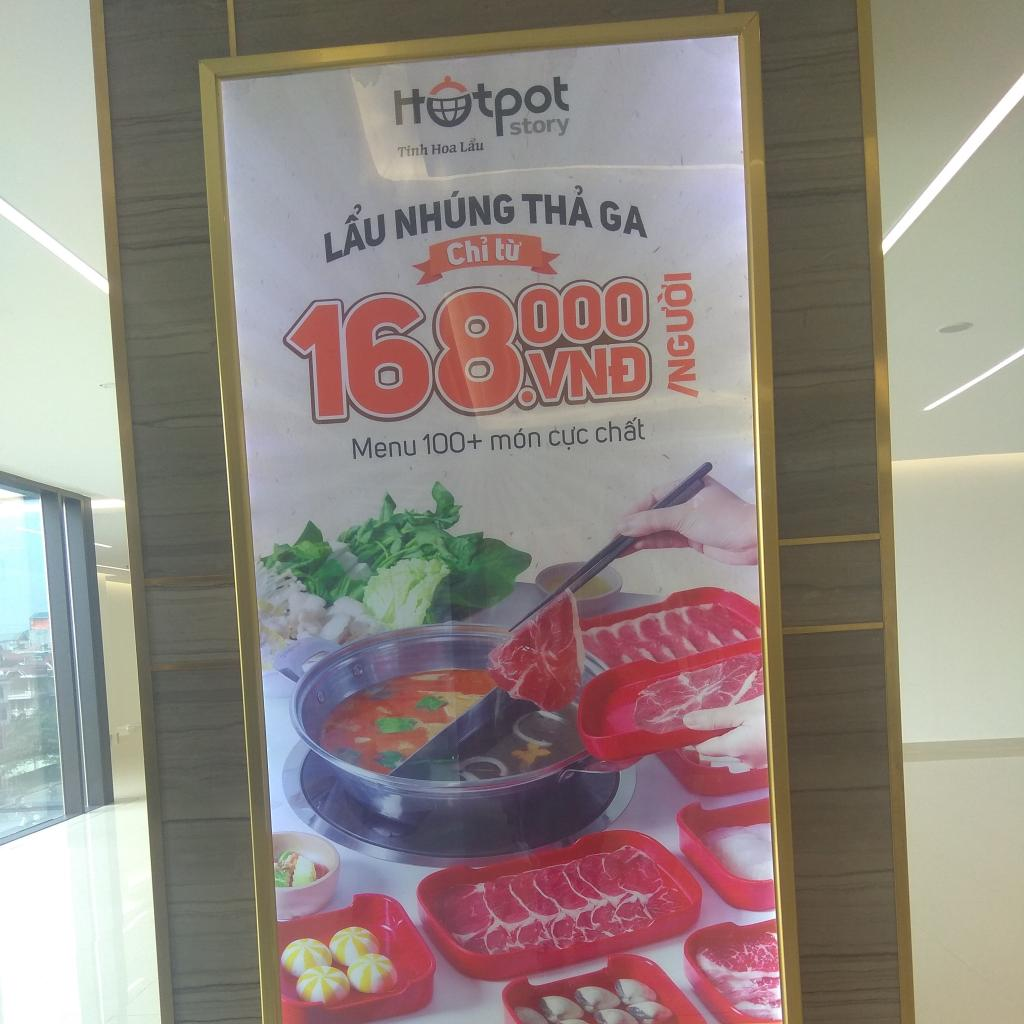text: (279, 271, 652, 429), (384, 68, 578, 144), (392, 181, 520, 245), (656, 267, 701, 404), (314, 192, 388, 268), (520, 182, 596, 232), (598, 195, 651, 242), (348, 431, 419, 463), (420, 426, 484, 458), (487, 424, 544, 456), (447, 232, 491, 267), (508, 116, 572, 138), (547, 423, 590, 454), (494, 236, 524, 264), (397, 142, 430, 160), (430, 140, 458, 157), (458, 138, 486, 155)
